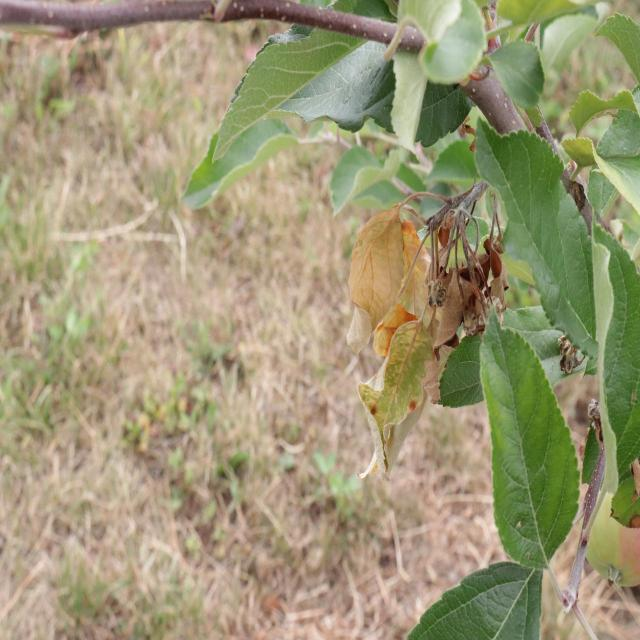-FireBlight-: (412, 205, 513, 335)
